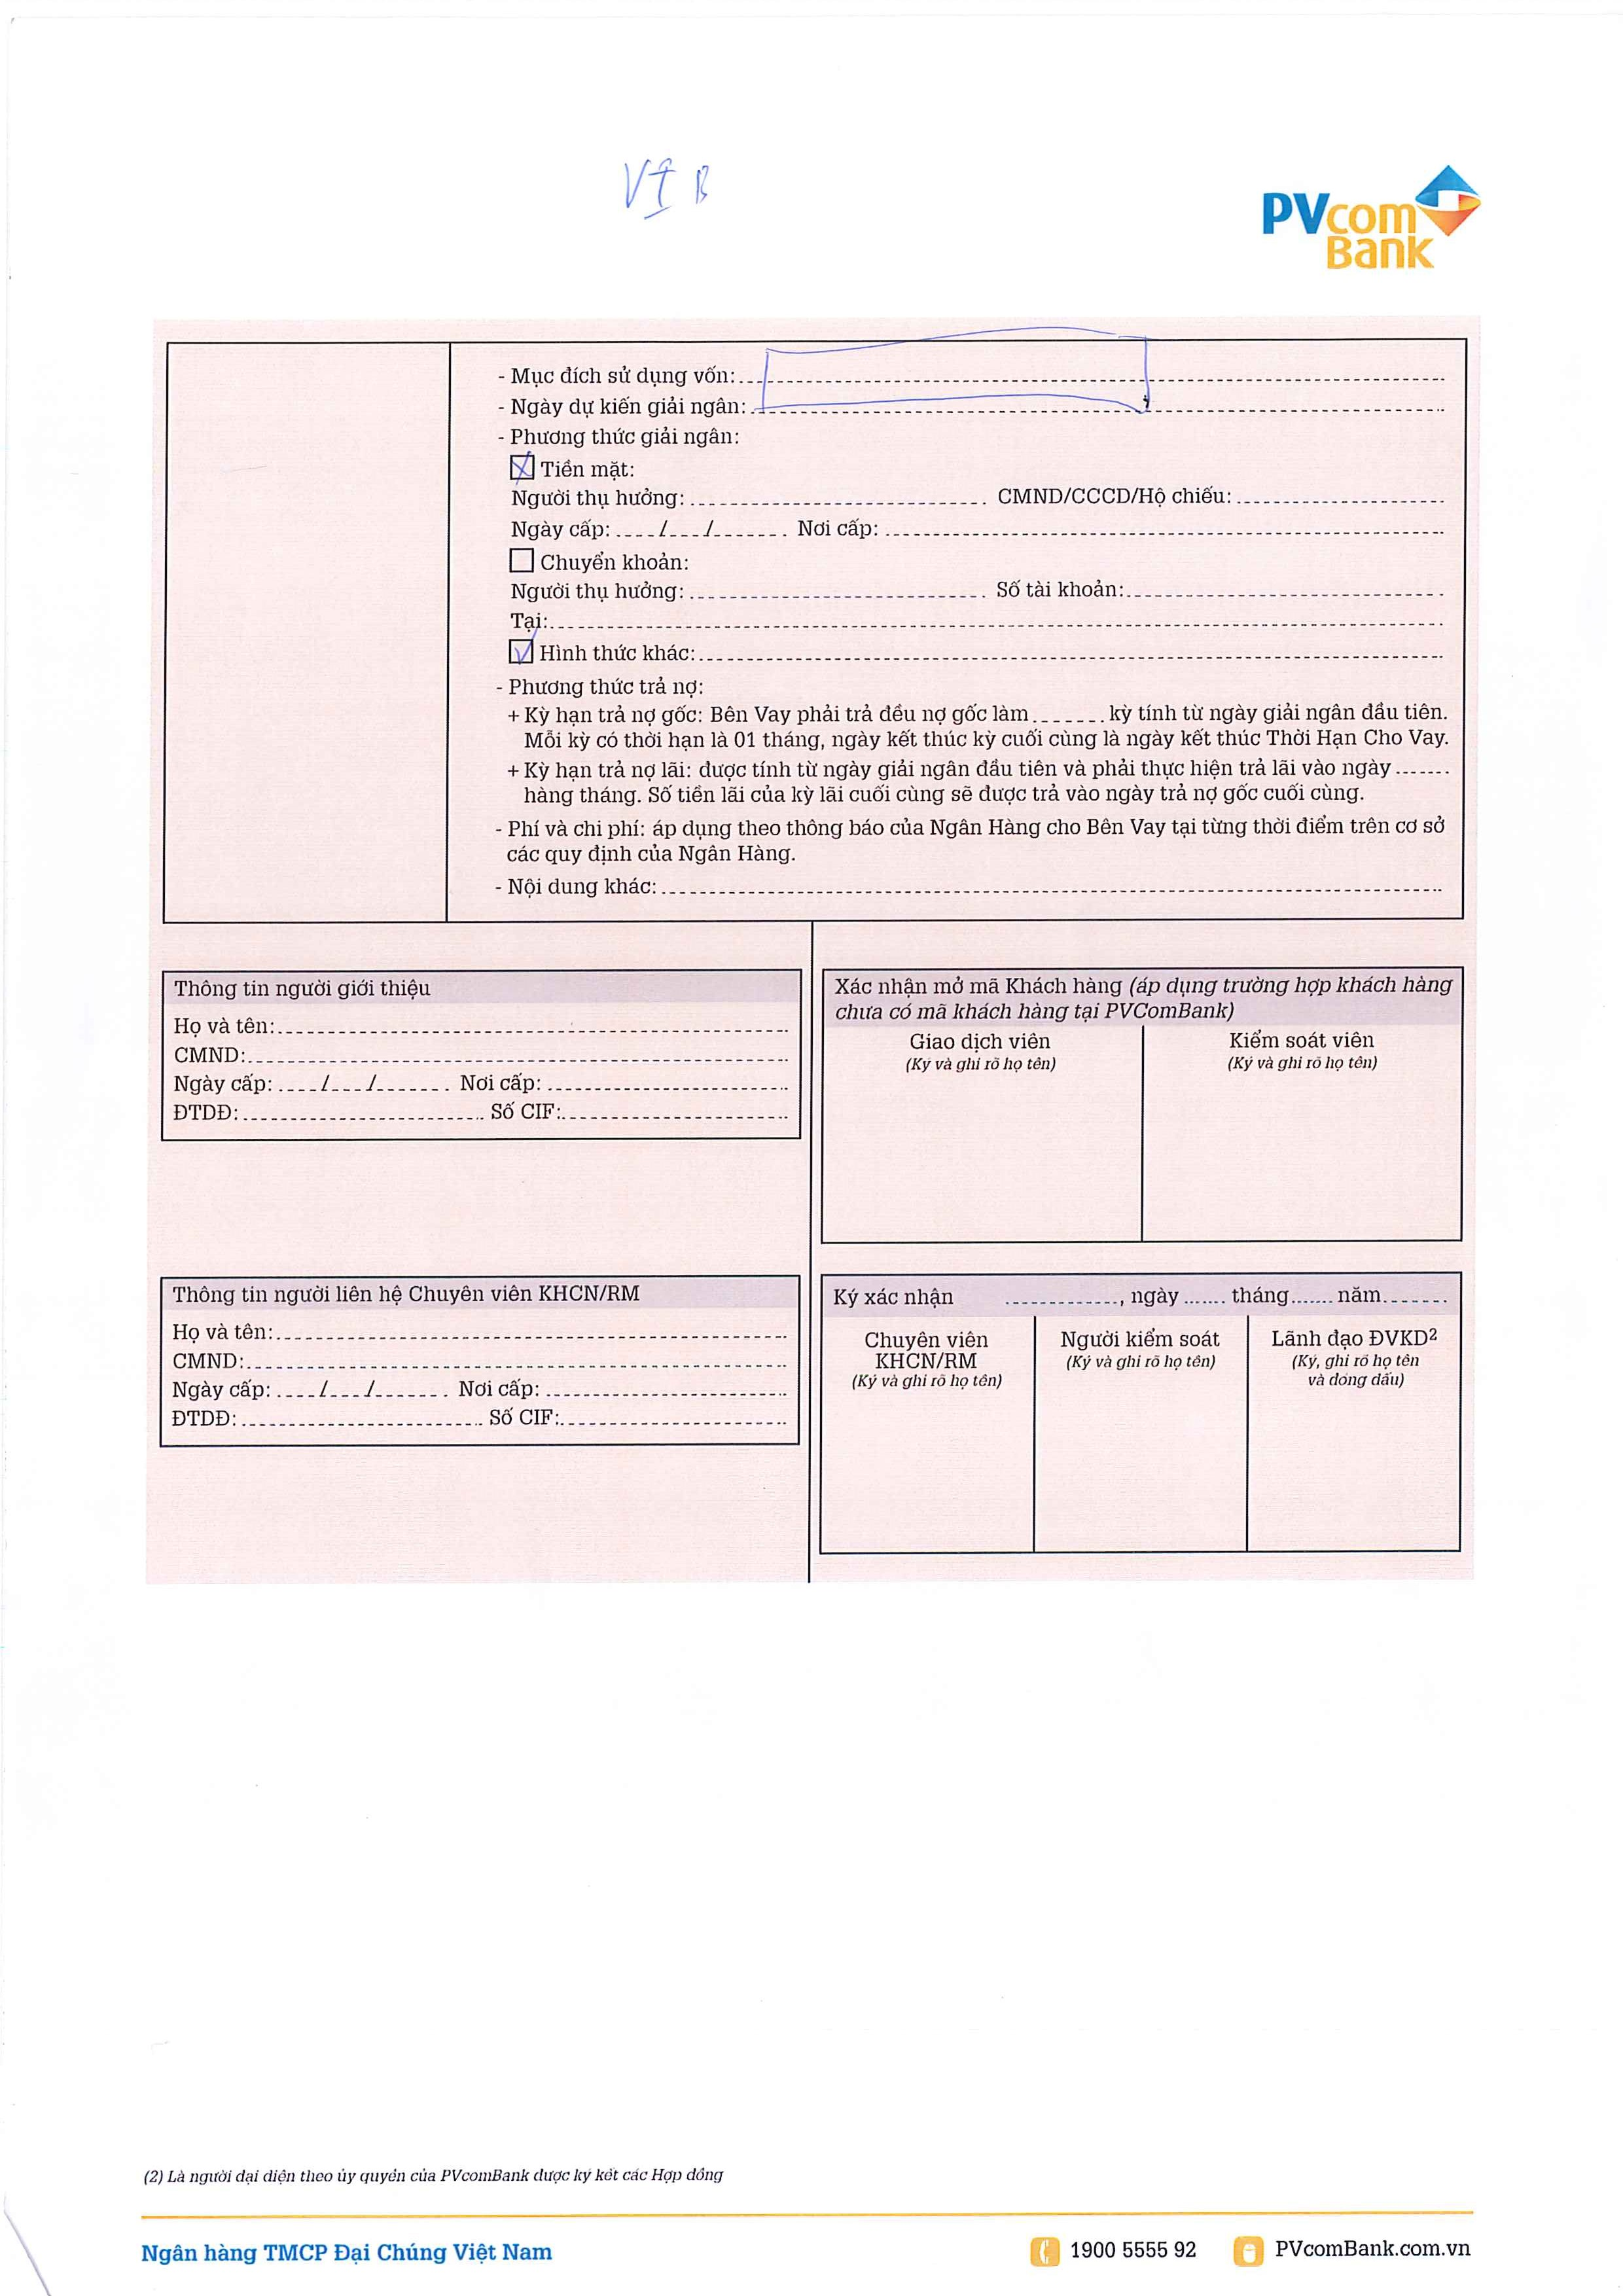box: (502, 632, 543, 673), (504, 543, 541, 578), (506, 448, 539, 485)
